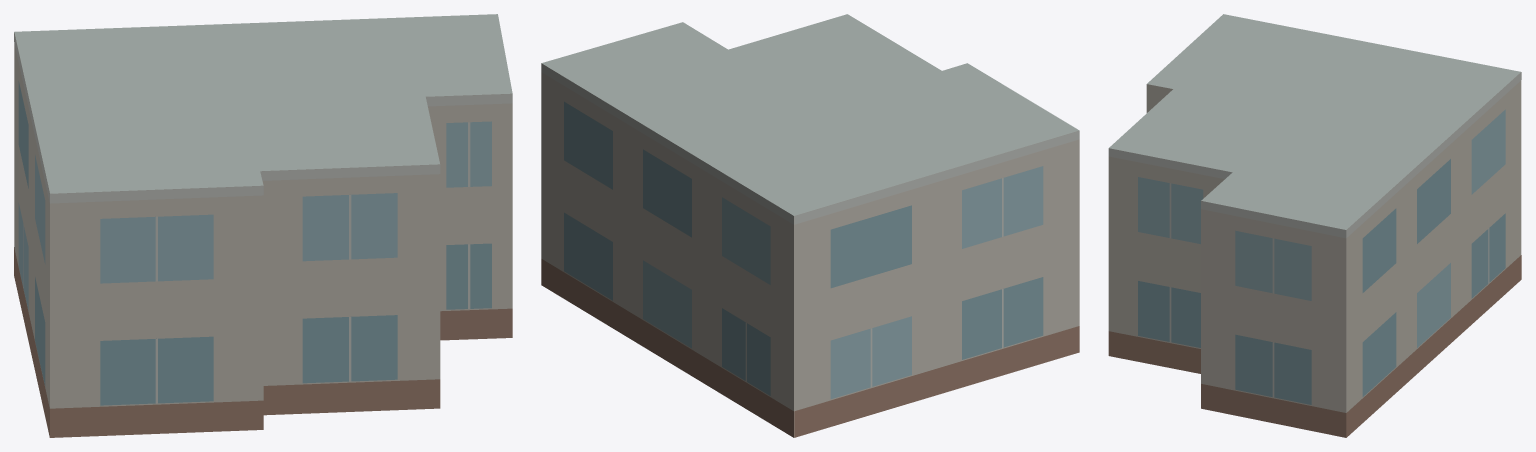
The model's file is survey-upis-32805541.glb.
The picture shows the model from 3 angles, left to right: view 1: azimuth 30°, elevation 25°; view 2: azimuth 150°, elevation 25°; view 3: azimuth 270°, elevation 25°; orthographic projection. The views are drawn at different scales.
Parts seen in each view (by area): view 1: survey-upis-32805541.tmp; view 2: survey-upis-32805541.tmp; view 3: survey-upis-32805541.tmp.
Boxes of the visible parts, bbox=[...] form: survey-upis-32805541.tmp: bbox=[14, 14, 512, 437]; survey-upis-32805541.tmp: bbox=[541, 14, 1079, 437]; survey-upis-32805541.tmp: bbox=[1108, 14, 1521, 437].
Size of the model in its own units: 13.61 by 6.1 by 10.99.
